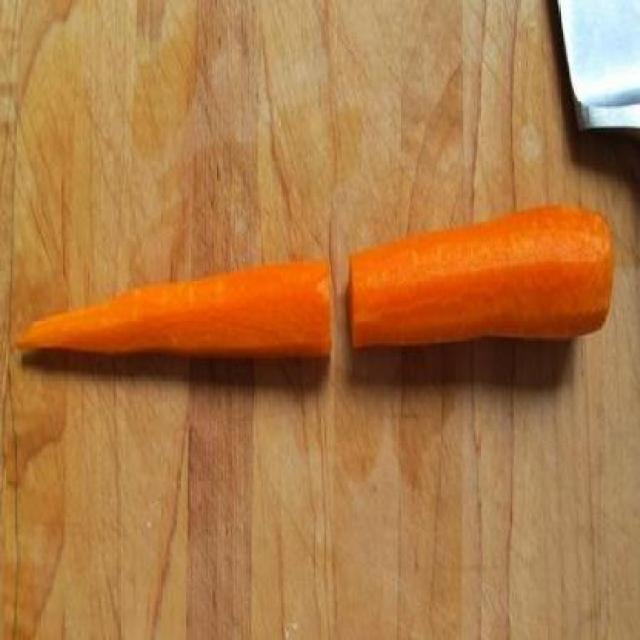carrot: (348, 206, 614, 357), (13, 258, 334, 372)
